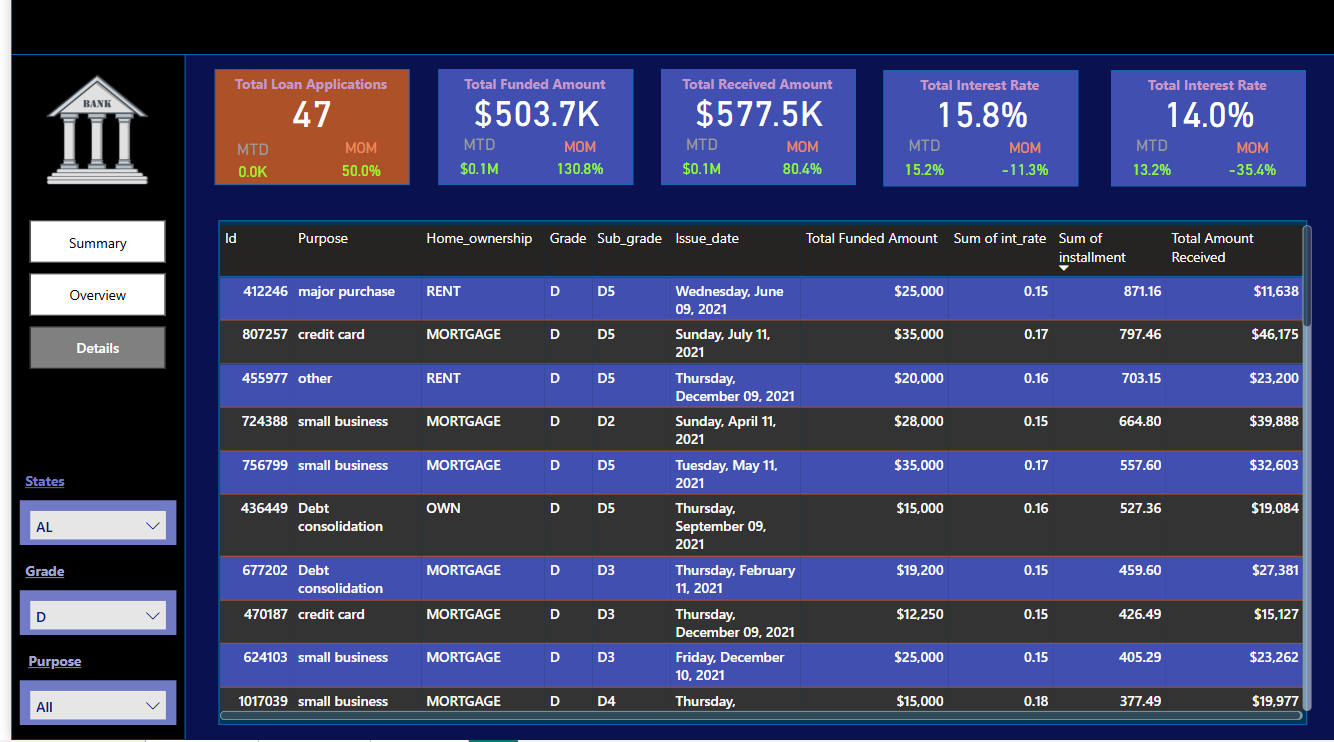

What the dashboard file says about the page in this screenshot:
{"tool":"powerbi","page":{"name":"Details","canvas":[1280,720],"ordinal":2},"visuals":[{"type":"shape","box":[0,0,168.5,720.6],"z":0},{"type":"shape","box":[197.1,72.4,188.1,112.2],"z":0,"group":"g1"},{"type":"shape","box":[412.7,72.4,188.1,112.2],"z":0,"group":"g2"},{"type":"shape","box":[627.4,72.4,188.1,112.2],"z":0,"group":"g3"},{"type":"shape","box":[842.2,73.6,188.1,112.2],"z":0,"group":"g4"},{"type":"shape","box":[1061.8,73.6,188.1,112.2],"z":0,"group":"g5"},{"type":"textbox","box":[0,0,1280,59.1],"z":1000},{"type":"card","fields":{"Values":["Bank_loan_data.Total_id"]},"box":[195.4,89.8,190.6,47.1],"z":1000,"group":"g1"},{"type":"card","fields":{"Values":["Bank_loan_data.Total Funded Amount"]},"box":[412.5,89.8,189.4,47.1],"z":1000,"group":"g2"},{"type":"card","fields":{"Values":["Bank_loan_data.Total Amount Received"]},"box":[627.2,89.8,189.4,47.1],"z":1000,"group":"g3"},{"type":"card","fields":{"Values":["Bank_loan_data.AVG Interest Rate"]},"box":[842,91,189.4,47.1],"z":1000,"group":"g4"},{"type":"card","fields":{"Values":["Bank_loan_data.AVG DTI"]},"box":[1061.6,91,189.4,47.1],"z":1000,"group":"g5"},{"type":"shape","box":[0,0,1280,59],"z":2000},{"type":"textbox","box":[195.9,72.4,188.1,31.4],"z":2000,"group":"g1"},{"type":"textbox","box":[411.4,72.4,188.1,31.4],"z":2000,"group":"g2"},{"type":"textbox","box":[626.1,72.4,188.1,31.4],"z":2000,"group":"g3"},{"type":"textbox","box":[840.9,73.6,188.1,31.4],"z":2000,"group":"g4"},{"type":"textbox","box":[1060.5,73.6,188.1,31.4],"z":2000,"group":"g5"},{"type":"card","title":"MTD","fields":{"Values":["Bank_loan_data.MTD Funded Amount"]},"box":[416.4,136.9,71.2,49.5],"z":3000,"group":"g2"},{"type":"card","title":"MTD","fields":{"Values":["Bank_loan_data.MTD Received Amount"]},"box":[631.1,136.9,71.2,49.5],"z":3000,"group":"g3"},{"type":"card","title":"MTD","fields":{"Values":["Bank_loan_data.MTD AVG interest Rate"]},"box":[845.9,138.1,71.2,49.5],"z":3000,"group":"g4"},{"type":"card","title":"MTD","fields":{"Values":["Bank_loan_data.MTD avg DTI"]},"box":[1065.5,138.1,71.2,49.5],"z":3000,"group":"g5"},{"type":"card","title":"MTD","fields":{"Values":["Bank_loan_data.MTD Loan Applications"]},"box":[200.2,141.7,66.4,43.4],"z":3000,"group":"g1"},{"type":"textbox","box":[0,456,65.1,32.6],"z":3000},{"type":"group","id":"g1","title":"Group 1","box":[195.4,72.4,190.6,113.4],"z":4000},{"type":"card","title":"MOM","fields":{"Values":["Bank_loan_data.MOM Funded Amount"]},"box":[508.8,139.3,79.6,43.4],"z":4000,"group":"g2"},{"type":"card","title":"MOM","fields":{"Values":["Bank_loan_data.MOM Received Amount"]},"box":[723.5,139.3,79.6,43.4],"z":4000,"group":"g3"},{"type":"card","title":"MOM","fields":{"Values":["Bank_loan_data.MoM Loan Application"]},"box":[304.9,140.2,65.1,42.2],"z":4000,"group":"g1"},{"type":"card","title":"MOM","fields":{"Values":["Bank_loan_data.MOM Avg Int Rate"]},"box":[938.3,140.5,79.6,43.4],"z":4000,"group":"g4"},{"type":"card","title":"MOM","fields":{"Values":["Bank_loan_data.MOM AVG DTI"]},"box":[1157.9,140.5,79.6,43.4],"z":4000,"group":"g5"},{"type":"group","id":"g2","title":"Group 1","box":[411.4,72.4,190.6,113.4],"z":5000},{"type":"group","id":"g3","title":"Group 1","box":[626.1,72.4,190.6,114.6],"z":6000},{"type":"group","id":"g4","title":"Group 1","box":[840.9,73.6,190.6,113.4],"z":7000},{"type":"group","id":"g5","title":"Group 1","box":[1060.5,73.6,190.6,113.4],"z":8000},{"type":"slicer","fields":{"Values":["Bank_loan_data.address_state"]},"box":[8.4,488.6,150.8,43.4],"z":9000},{"type":"slicer","fields":{"Values":["Bank_loan_data.purpose"]},"box":[8.4,662.3,150.8,43.4],"z":10000},{"type":"shape","box":[200.3,218.4,1050.8,487.4],"z":11000},{"type":"slicer","fields":{"Values":["Bank_loan_data.grade"]},"box":[8.4,575.5,150.8,43.4],"z":12000},{"type":"textbox","box":[0,629.8,84.5,32.6],"z":13000},{"type":"textbox","box":[0,542.9,65.1,32.6],"z":14000},{"type":"tableEx","fields":{"Values":["Bank_loan_data.id","Bank_loan_data.purpose","Bank_loan_data.home_ownership","Bank_loan_data.grade","Bank_loan_data.sub_grade","Bank_loan_data.issue_date","Bank_loan_data.Total Funded Amount","Sum(Bank_loan_data.int_rate)","Sum(Bank_loan_data.installment)","Bank_loan_data.Total Amount Received"]},"box":[195.4,218.4,1065.3,487.4],"z":15000},{"type":"pageNavigator","box":[18.3,218.6,131.9,144.1],"z":16000},{"type":"image","box":[8.4,51.9,149.6,156.8],"z":17000}]}

Visuals, with their boxes in screenshot pixels (x1, y1, x2, y2), scaled from the page's 1280x720 canvas onto the 1334x742 screenshot:
shape: 0/0/176/741
shape: 205/75/401/190
shape: 430/75/626/190
shape: 654/75/850/190
shape: 878/76/1074/191
shape: 1107/76/1303/191
textbox: 0/0/1333/61
card - Bank_loan_data.Total_id: 204/93/402/141
card - Bank_loan_data.Total Funded Amount: 430/93/627/141
card - Bank_loan_data.Total Amount Received: 654/93/851/141
card - Bank_loan_data.AVG Interest Rate: 878/94/1075/142
card - Bank_loan_data.AVG DTI: 1106/94/1304/142
shape: 0/0/1333/61
textbox: 204/75/400/107
textbox: 429/75/625/107
textbox: 653/75/849/107
textbox: 876/76/1072/108
textbox: 1105/76/1301/108
"MTD" card: 434/141/508/192
"MTD" card: 658/141/732/192
"MTD" card: 882/142/956/193
"MTD" card: 1110/142/1185/193
"MTD" card: 209/146/278/191
textbox: 0/470/68/504
"Group 1" group: 204/75/402/191
"MOM" card: 530/144/613/188
"MOM" card: 754/144/837/188
"MOM" card: 318/144/386/188
"MOM" card: 978/145/1061/190
"MOM" card: 1207/145/1290/190
"Group 1" group: 429/75/627/191
"Group 1" group: 653/75/851/193
"Group 1" group: 876/76/1075/193
"Group 1" group: 1105/76/1304/193
slicer - Bank_loan_data.address_state: 9/504/166/548
slicer - Bank_loan_data.purpose: 9/683/166/727
shape: 209/225/1304/727
slicer - Bank_loan_data.grade: 9/593/166/638
textbox: 0/649/88/683
textbox: 0/559/68/593
tableEx - Bank_loan_data.id x Bank_loan_data.purpose: 204/225/1314/727
pageNavigator: 19/225/157/374
image: 9/53/165/215
